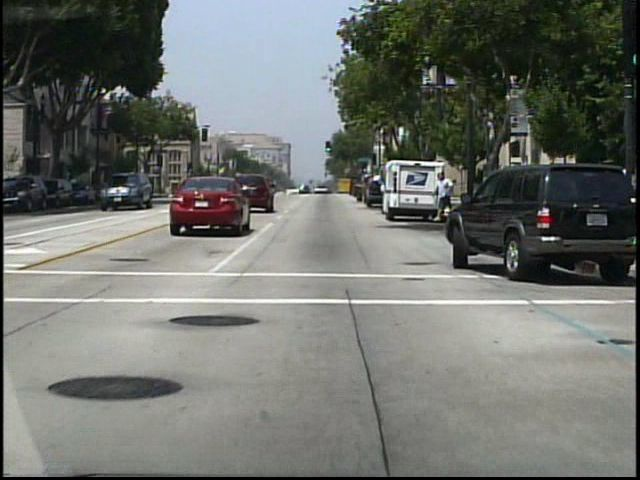person: (429, 171, 455, 217), (352, 175, 369, 203)
